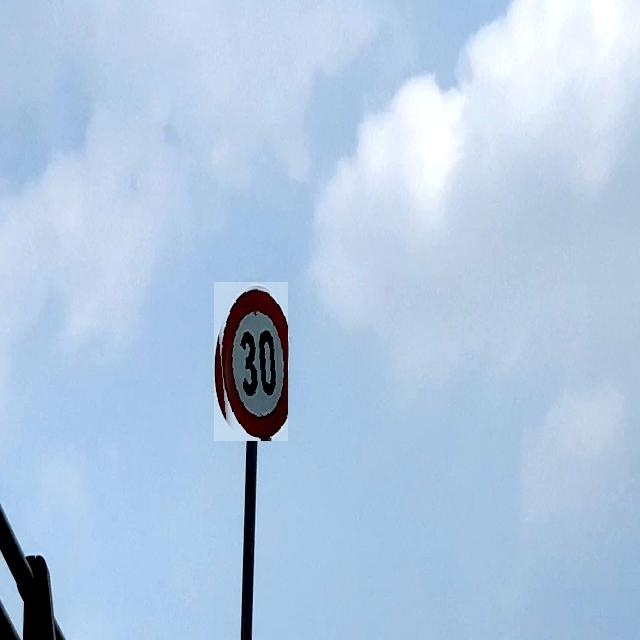bien_cam: (214, 282, 288, 441)
